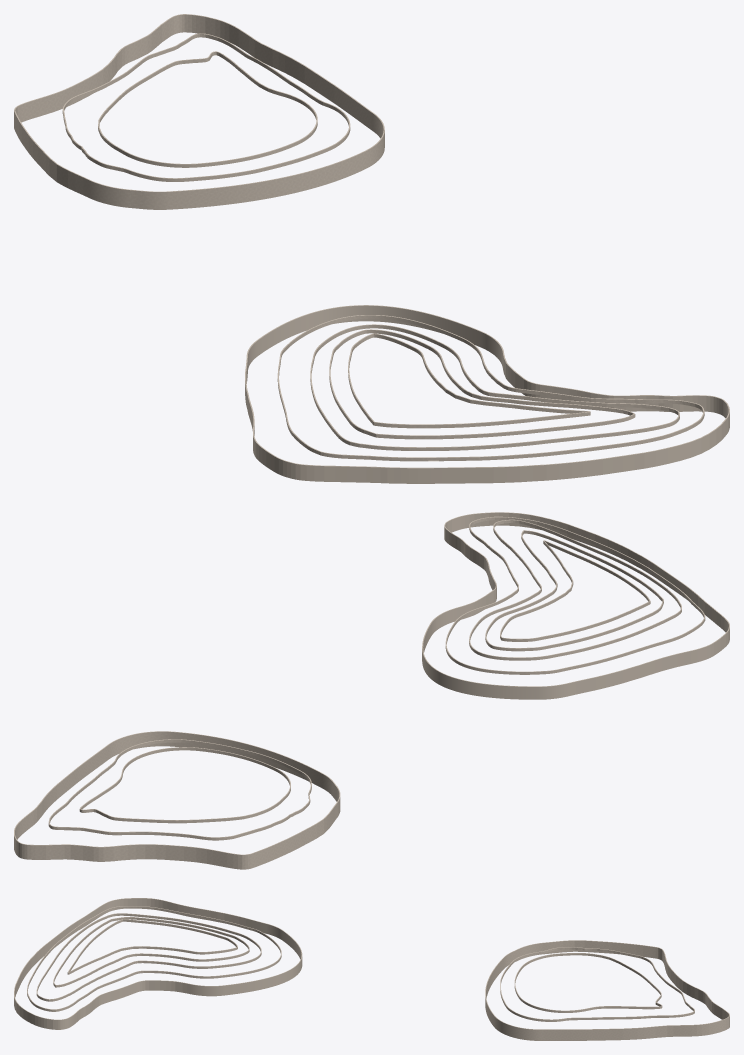
File: terraceSidings.glb
3 views of the same model, one above another, from view 1: azimuth 30°, elevation 25°; view 2: azimuth 150°, elevation 25°; view 3: azimuth 270°, elevation 25° (orthographic). The views are drawn at different scales.
Parts seen in each view (by area): view 1: terraceSidings; view 2: terraceSidings; view 3: terraceSidings.
Boxes of the visible parts, box(x1,y1,x2,y2) form: terraceSidings: box(14, 14, 729, 483); terraceSidings: box(14, 512, 729, 869); terraceSidings: box(14, 898, 729, 1040).
Bounding box in the file's own units: 131 × 9.2 × 300.
1 material, 1 textured.
